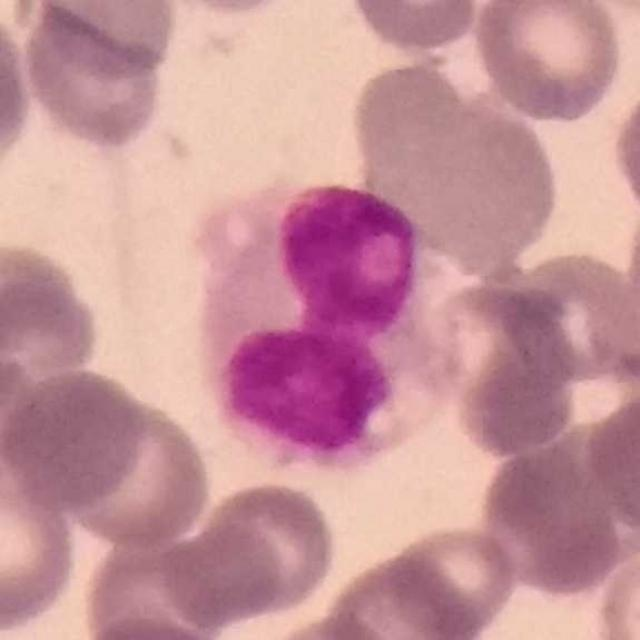mono: (191, 172, 468, 471)
